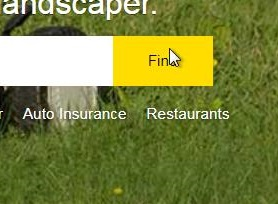cursor: (167, 46, 182, 68)
